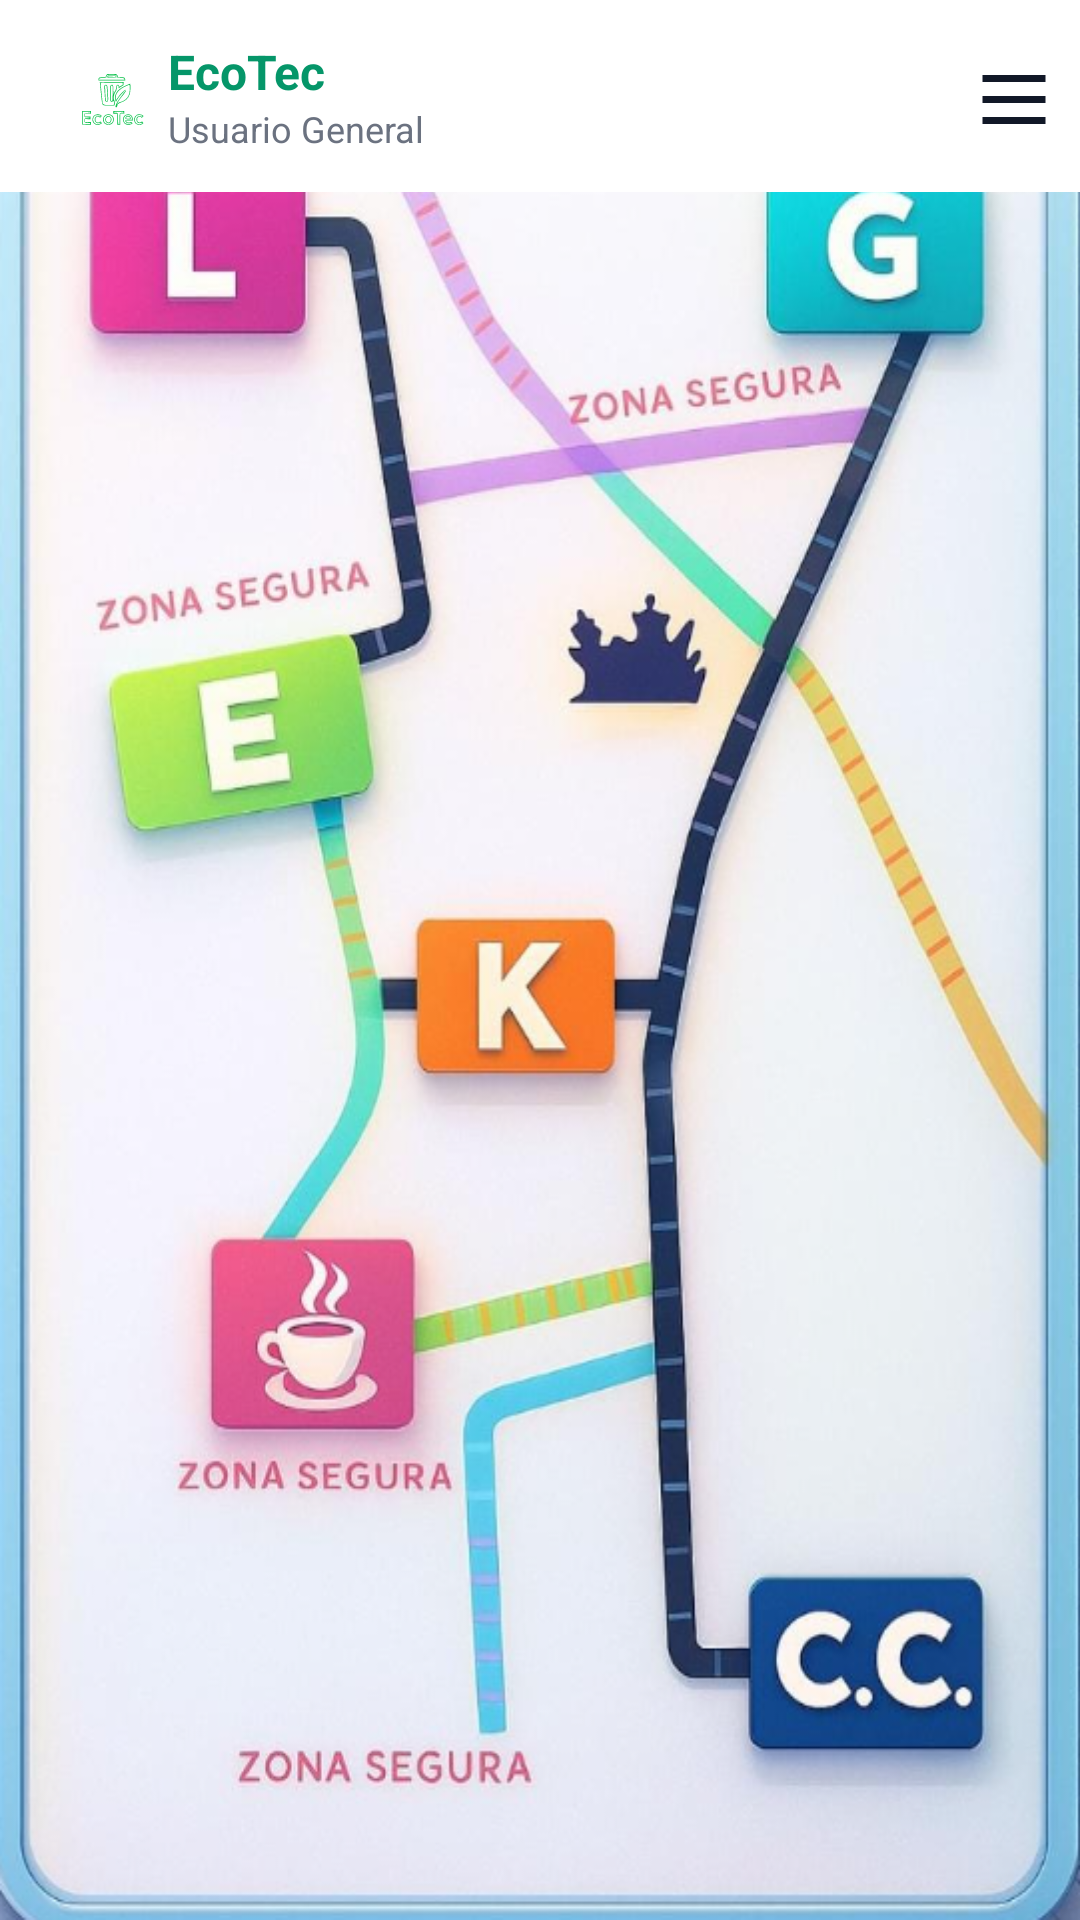

Named icons in this screenshot (1080px x 1920px) and their bounding boxes, [x1=x1, y1=y1, x2=x2, y2=y2]:
Menú: [x1=982, y1=75, x2=1046, y2=124]
